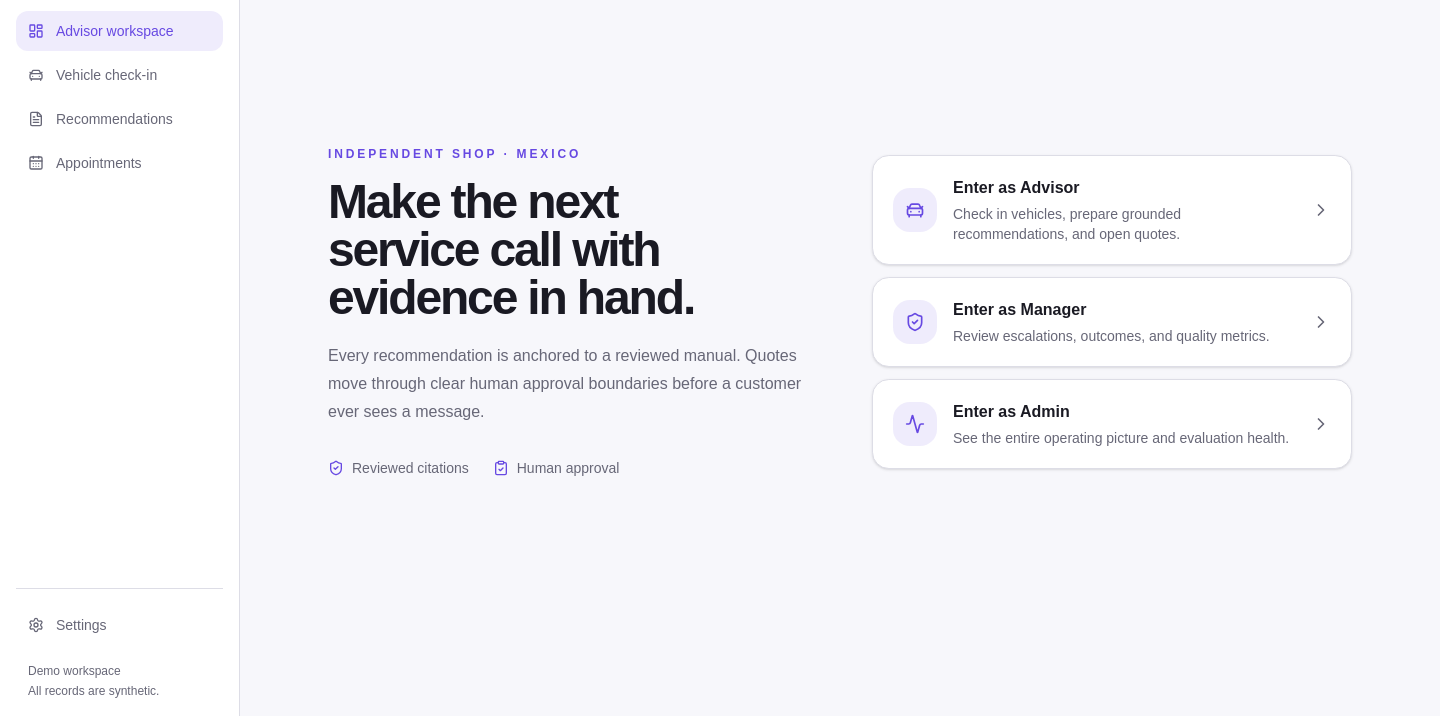
Test: shows the grounded recommendation console in an Advisor workspace
This screenshot has width=1440, height=716.
Step 1. Click the button "Enter as Advisor" → (1112, 210), box [872,154,1352,264]
(page scrolled)
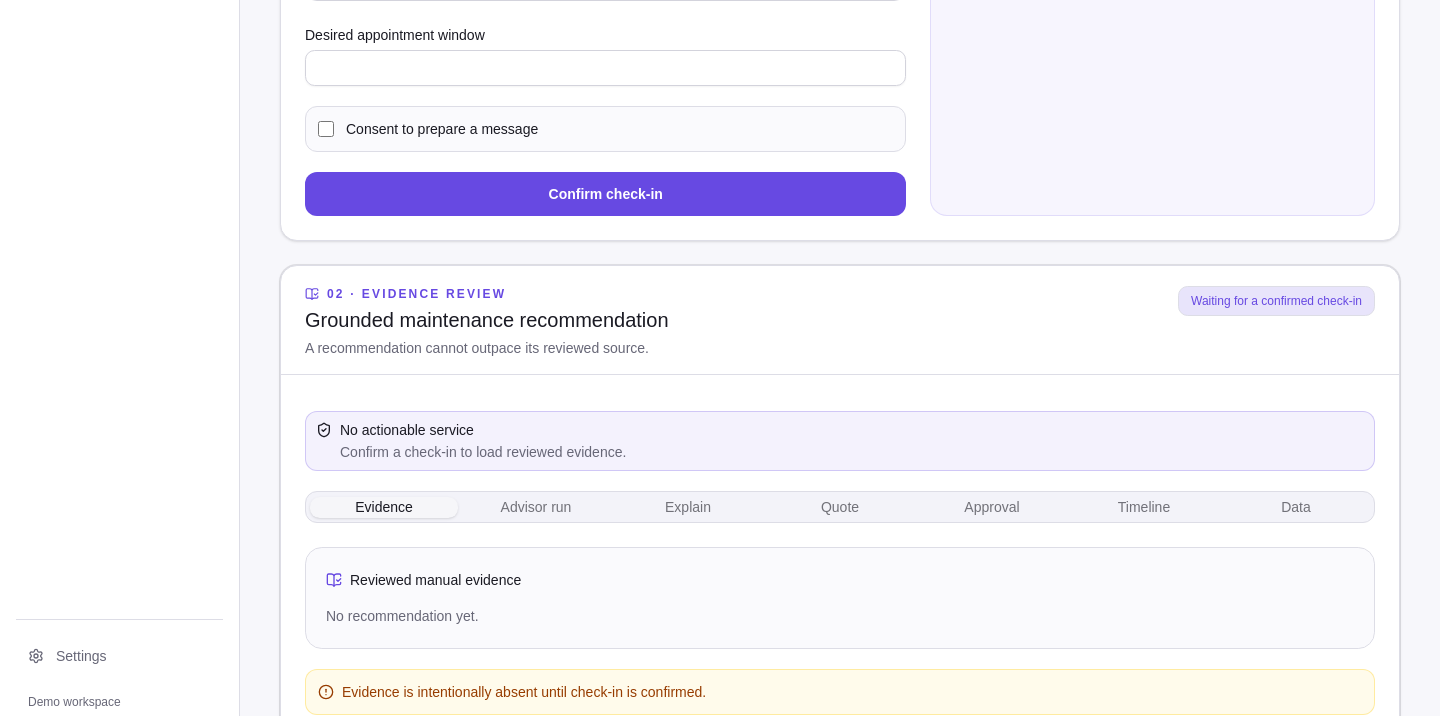
Check: the text "Grounded maintenance recommendation" is shown, box [305,306,669,334]
